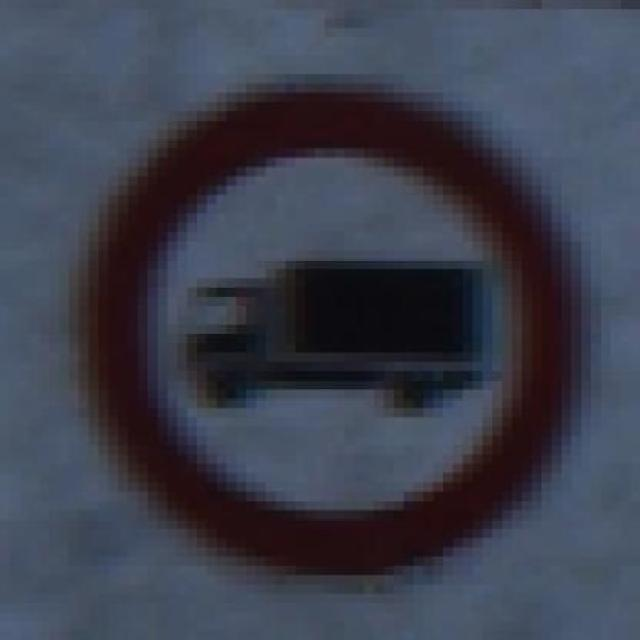Truck traffic is prohibited: (68, 65, 600, 593)
